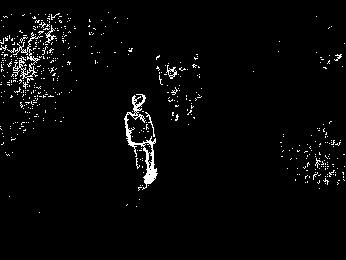person: (122, 91, 161, 193)
